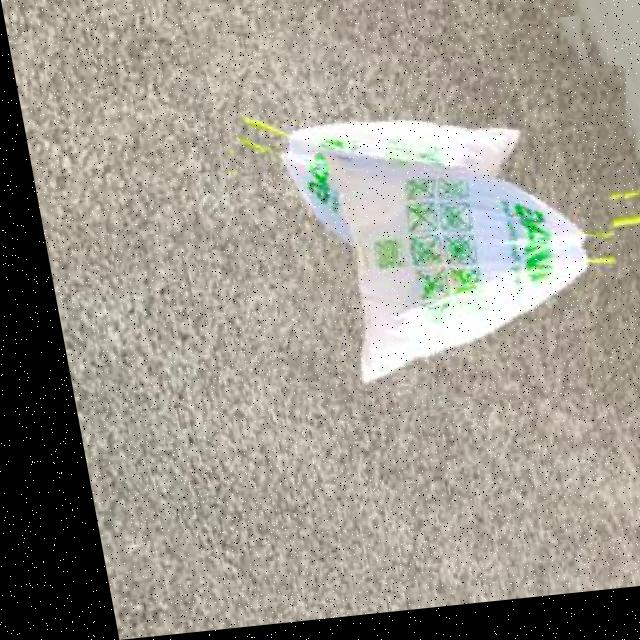litter: (198, 26, 640, 431)
